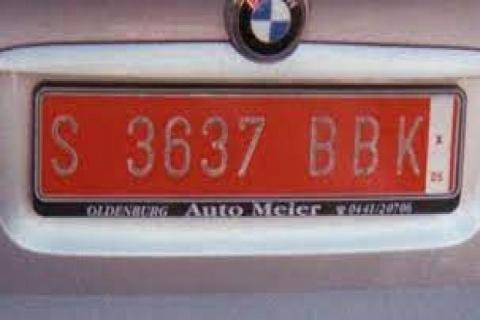LicensePlate: (24, 75, 472, 225), (472, 96, 480, 224)
